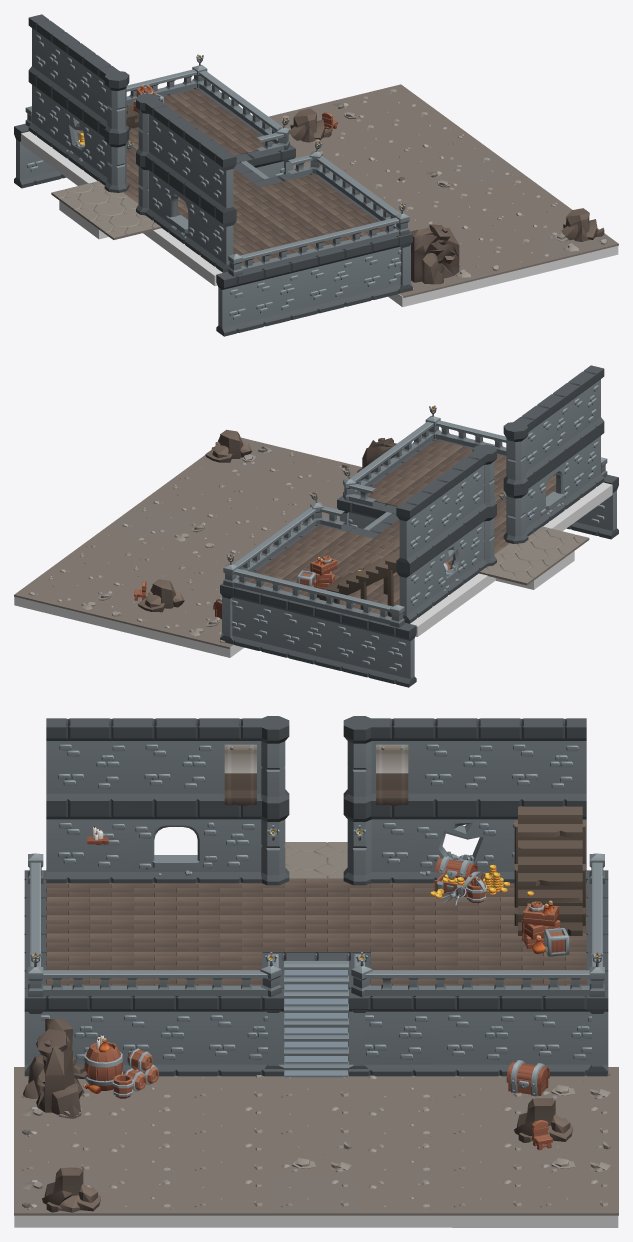
File: level1.glb
The picture shows the model from 3 angles, top to bottom: view 1: azimuth 30°, elevation 25°; view 2: azimuth 150°, elevation 25°; view 3: azimuth 270°, elevation 25°; orthographic projection. The views are drawn at different scales.
Parts seen in each view (by area): view 1: wall.009, wall.010, wall.008, wall.014, rubble_half, wall.006, wall.015, wall.016, wall.017, Cube, wall_half.003, floor_dirt_large.007 (+50 smaller); view 2: wall.011, wall.012, wall.016, wall.013, wall.007, wall.017, wall.014, wall.015, Cube, wall_half.004, stairs_wood, wall.006 (+55 smaller); view 3: stairs_wood, Cube, wall.015, wall.017, wall.014, wall.016, wall.001, wall.006, wall, wall.003, wall.004, stairs_walled (+103 smaller).
Boxes of the visible parts, x1,y1,x2,y2 form: wall.009: [303, 246, 358, 316]; wall.010: [249, 259, 304, 329]; wall.008: [357, 232, 412, 303]; wall.014: [192, 134, 236, 216]; rubble_half: [410, 224, 459, 284]; wall.006: [192, 194, 236, 272]; wall.015: [161, 111, 204, 193]; wall.016: [28, 14, 72, 96]; wall.017: [59, 37, 103, 118]; Cube: [388, 246, 618, 307]; wall_half.003: [216, 272, 250, 336]; floor_dirt_large.007: [480, 234, 564, 271]; wall.011: [328, 610, 383, 680]; wall.012: [274, 597, 329, 667]; wall.016: [396, 485, 440, 567]; wall.013: [220, 585, 275, 654]; wall.007: [396, 545, 440, 623]; wall.017: [428, 462, 471, 544]; wall.014: [560, 365, 604, 447]; wall.015: [529, 388, 573, 469]; Cube: [14, 596, 243, 657]; wall_half.004: [382, 623, 416, 687]; stairs_wood: [317, 549, 399, 616]; wall.006: [570, 425, 604, 503]; stairs_wood: [514, 806, 585, 935]; Cube: [14, 1215, 618, 1227]; wall.015: [133, 718, 219, 805]; wall.017: [413, 718, 499, 805]; wall.014: [46, 718, 132, 805]; wall.016: [500, 718, 586, 805]; wall.001: [435, 996, 521, 1076]; wall.006: [46, 805, 132, 883]; wall: [349, 991, 435, 1076]; wall.003: [197, 989, 283, 1076]; wall.004: [111, 996, 197, 1076]; stairs_walled: [262, 961, 370, 1075].
Bounding box in the file's own units: 32.03 × 12.74 × 28.
Materials: 219 (207 with a texture image).
